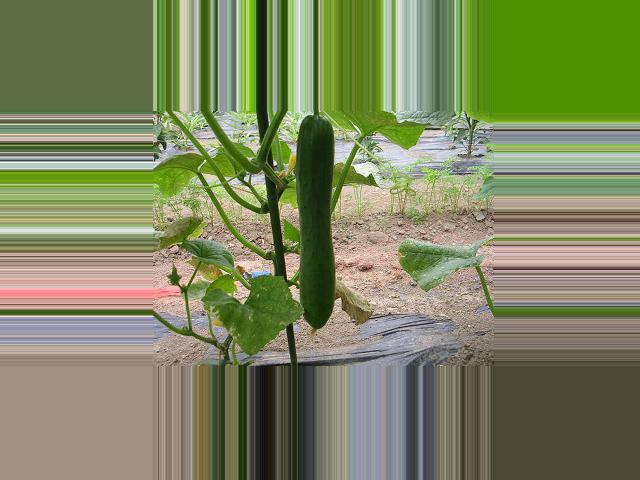cucumber: (296, 115, 335, 335)
